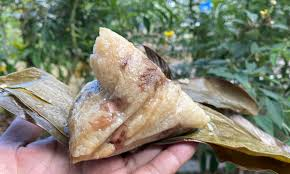zongzi: (69, 28, 208, 161)
